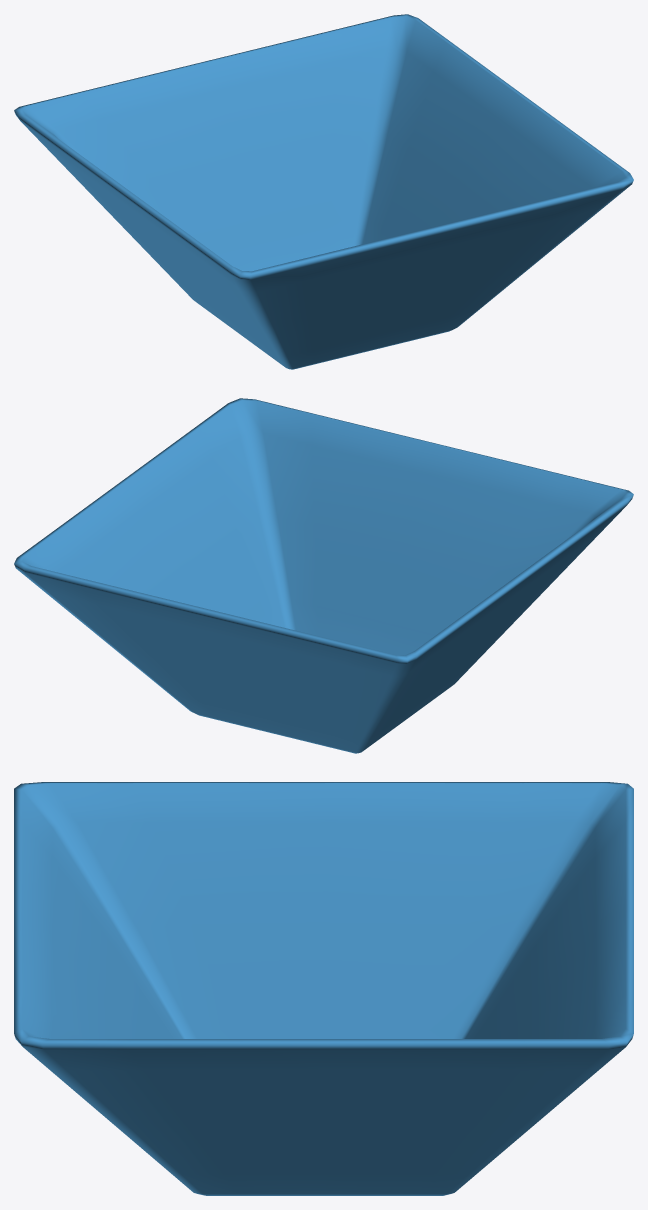
File: cinija 2.fbx
The picture shows the model from 3 angles, top to bottom: view 1: azimuth 30°, elevation 25°; view 2: azimuth 150°, elevation 25°; view 3: azimuth 270°, elevation 25°; orthographic projection. The views are drawn at different scales.
Parts seen in each view (by area): view 1: pCube6; view 2: pCube6; view 3: pCube6.
Boxes of the visible parts, x1,y1,x2,y2 form: pCube6: [14, 14, 633, 369]; pCube6: [14, 398, 633, 753]; pCube6: [14, 782, 633, 1195].
Size of the model in its own units: 3.41 by 1.41 by 3.41.
